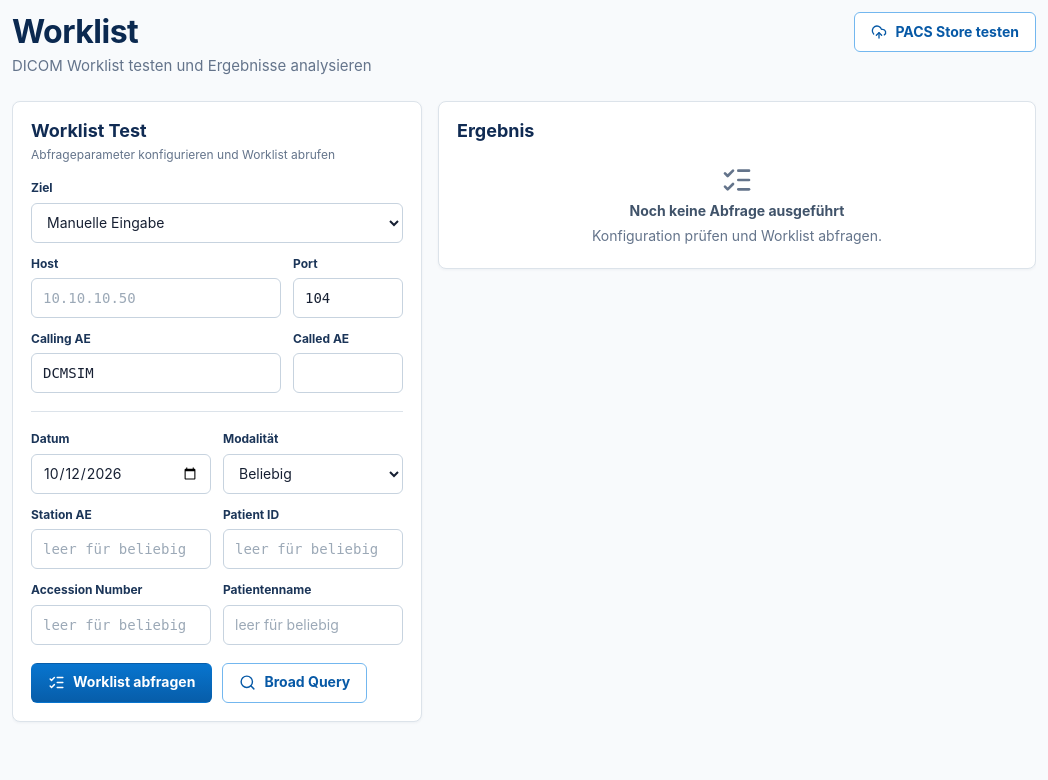
Test: clears Worklist patient data when filters or target change
Type "127.0.0.1" into the field labelled "Host" at (156, 298), box [31, 278, 281, 318]
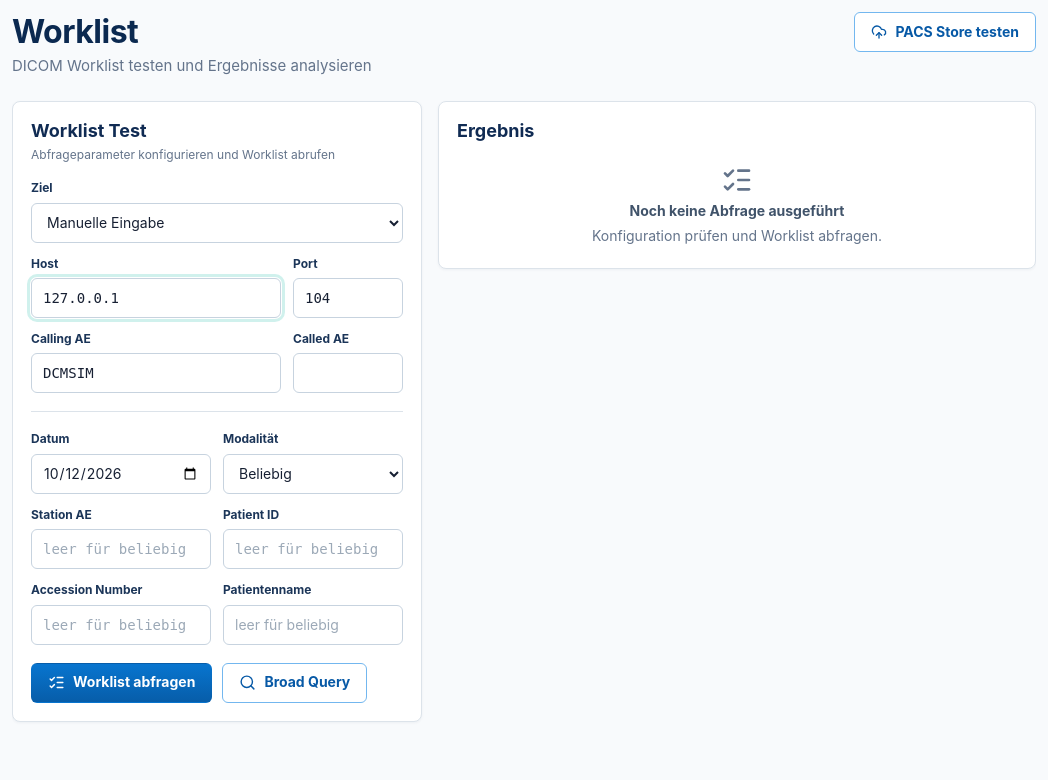
Type "TESTMWL" into the field labelled "Called AE" at (348, 373), box [293, 353, 403, 393]
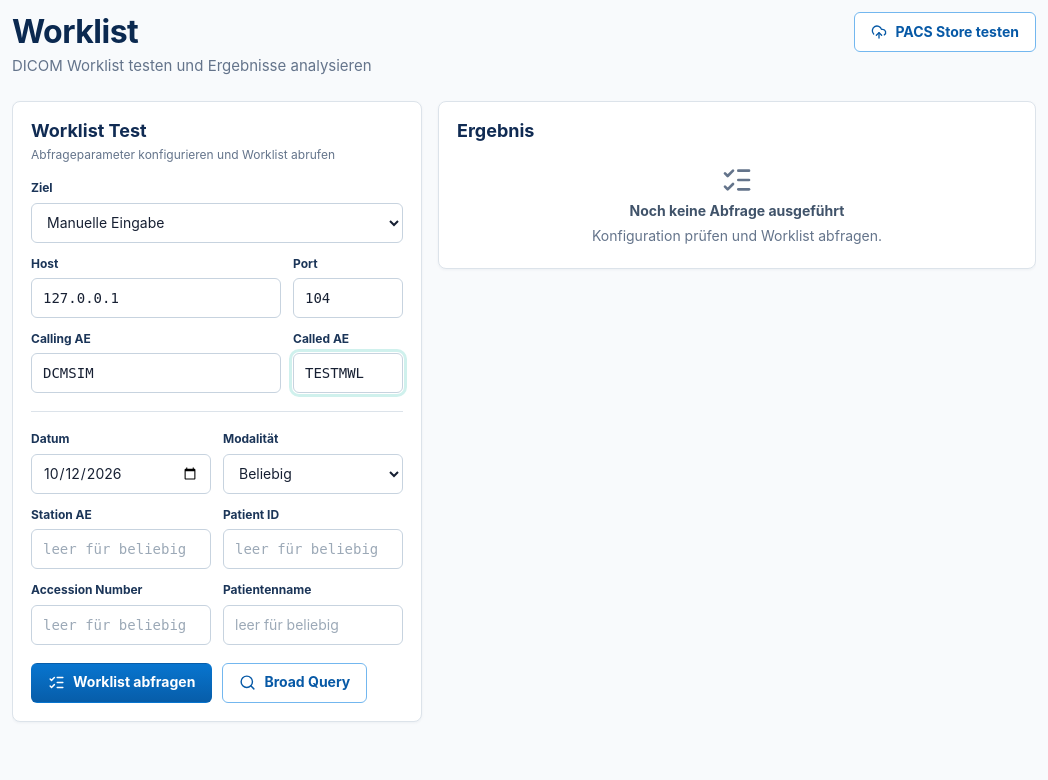
Click the button "Worklist abfragen" at (122, 683), box [31, 663, 212, 703]
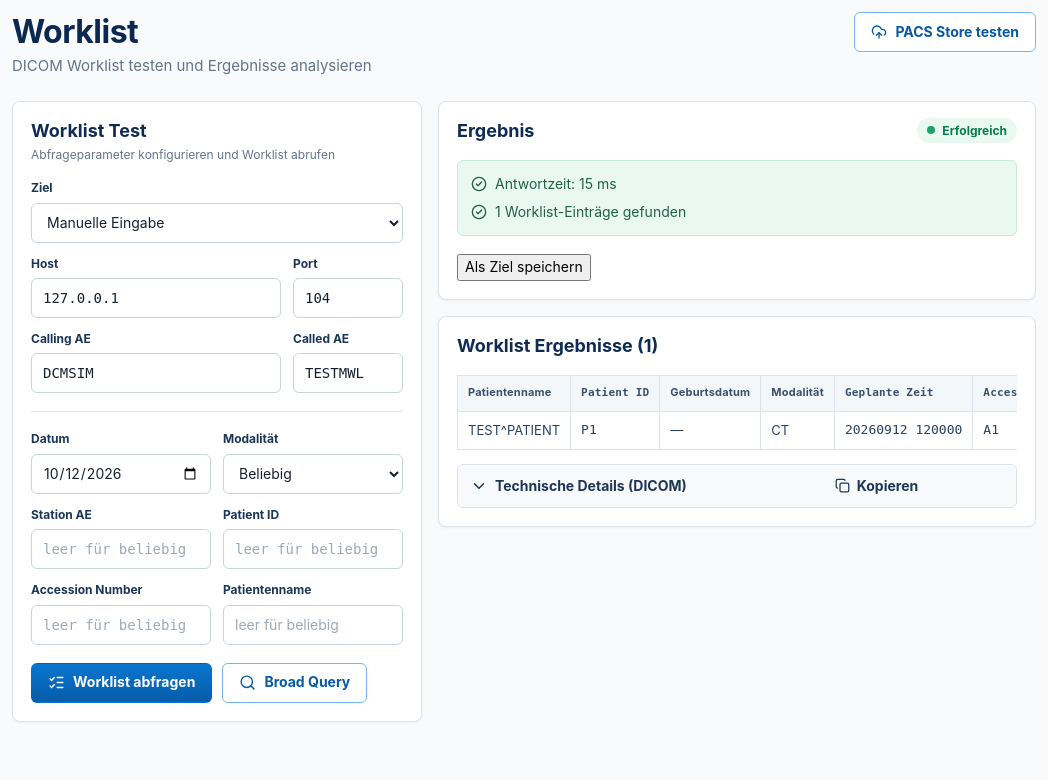
Expected: the text "TEST^PATIENT" is shown, [458, 411, 571, 449]
Type "P2" into the field labelled "Patient ID" at (313, 549), box [223, 529, 403, 569]
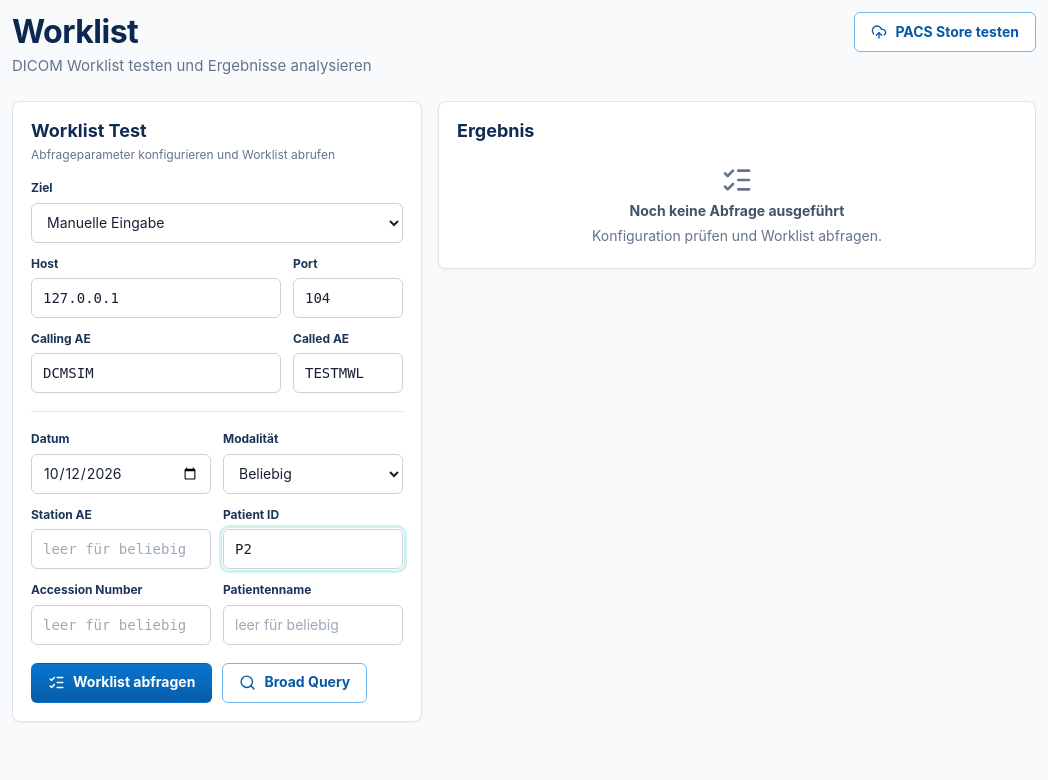
Expected: the text "TEST^PATIENT" is gone
Click the button "Worklist abfragen" at (122, 683), box [31, 663, 212, 703]
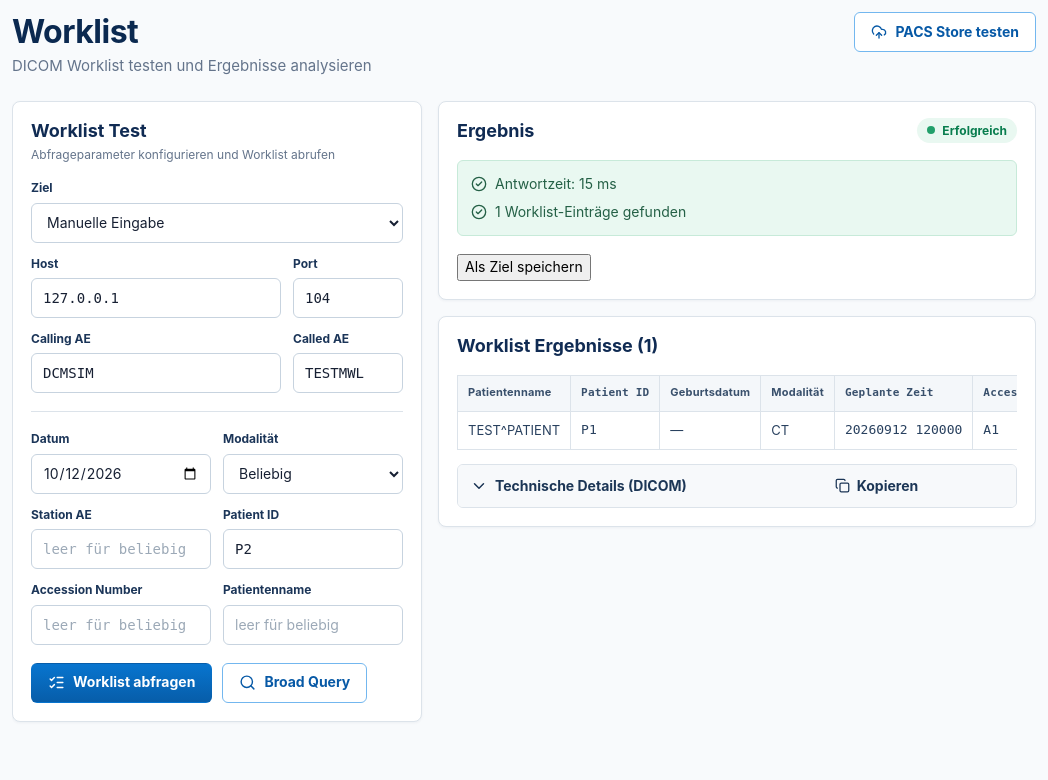
Expected: the text "TEST^PATIENT" is shown, [458, 411, 571, 449]
Type "2" into the field labelled "Host" at (156, 298), box [31, 278, 281, 318]
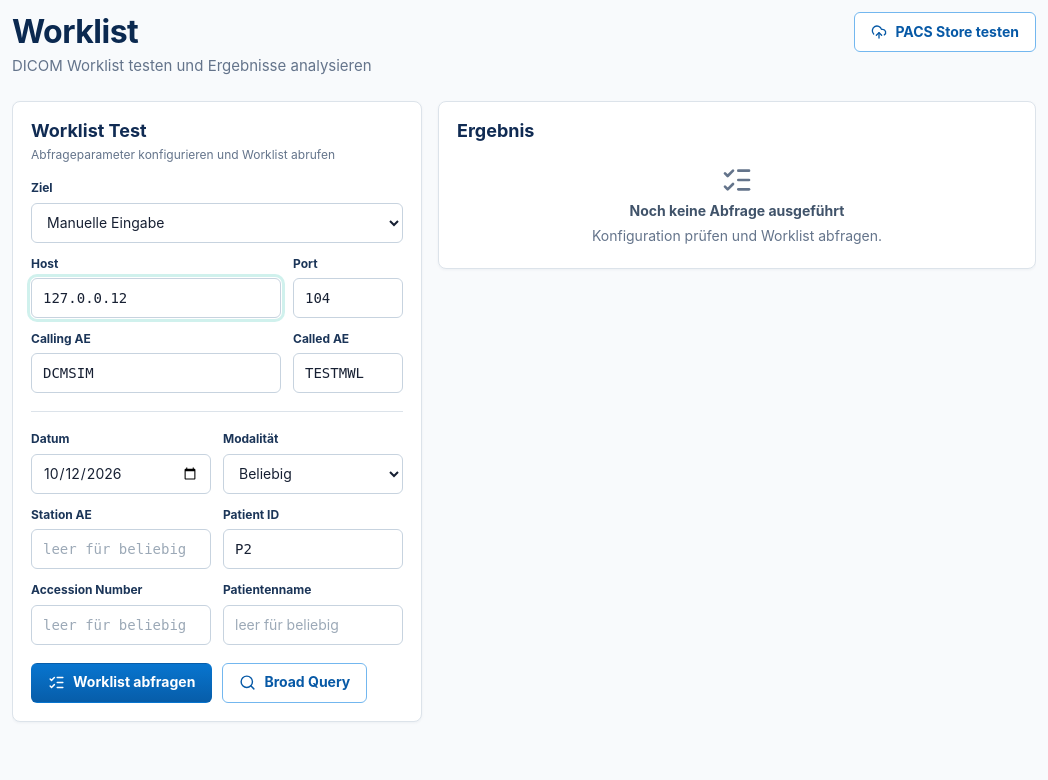
Expected: the text "TEST^PATIENT" is gone
